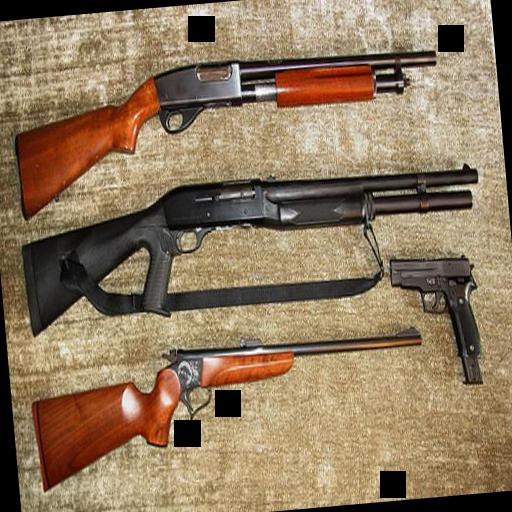Handgun: (388, 248, 482, 364)
